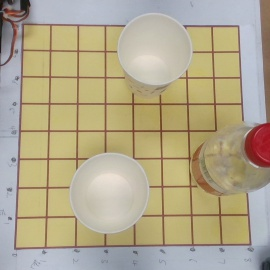bottle: (180, 119, 270, 214)
cup: (107, 12, 192, 103), (64, 152, 149, 236)
